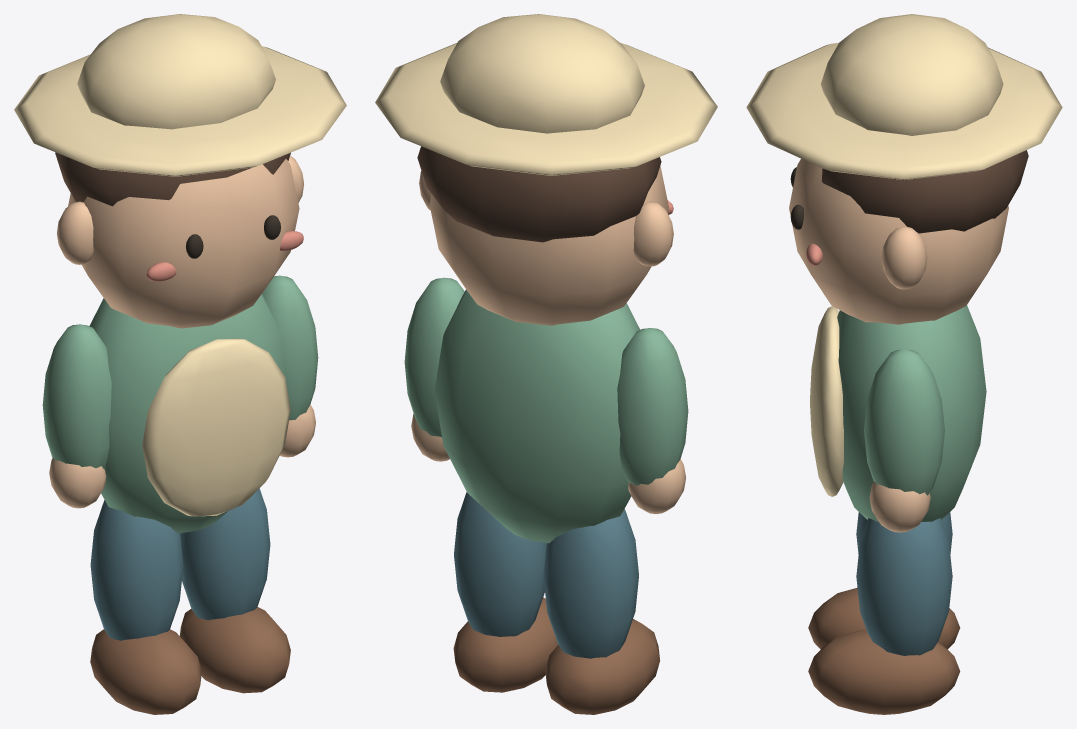
File: walker-gardener.glb
3 renders of one model, left to right at view 1: azimuth 30°, elevation 25°; view 2: azimuth 150°, elevation 25°; view 3: azimuth 270°, elevation 25°, orthographic. The views are drawn at different scales.
Parts seen in each view (by area): view 1: apron; view 2: apron; view 3: apron.
Part boxes in pixels (x1,y1,x2,y2): apron: (14,14,346,714); apron: (375,14,717,714); apron: (746,14,1062,714).
Bounding box in the file's own units: 0.62 × 1.33 × 0.578.
